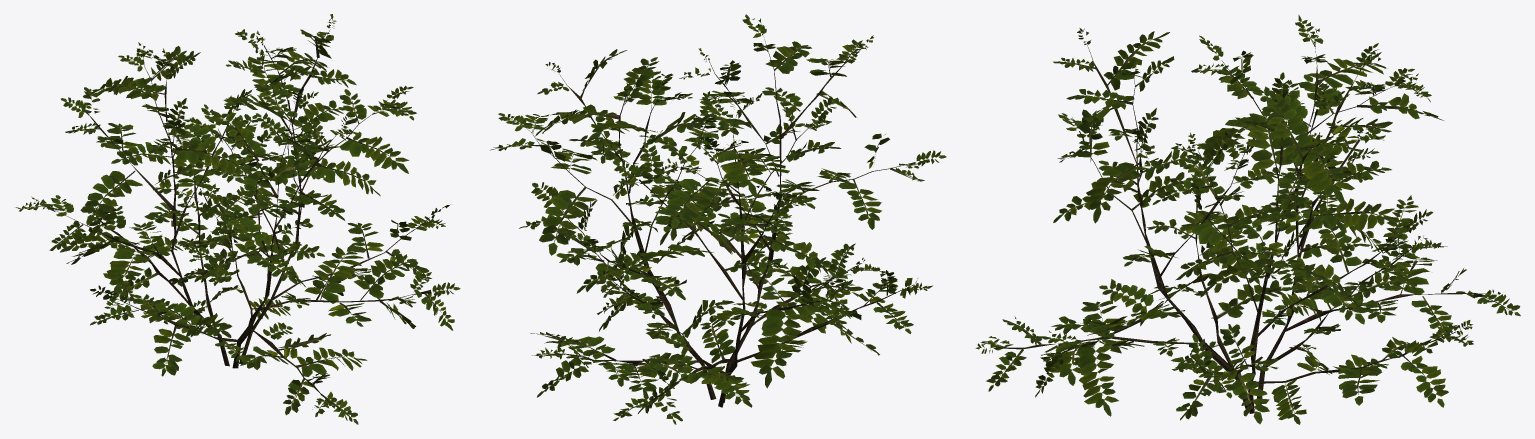
3 renders of one model, left to right at view 1: azimuth 30°, elevation 25°; view 2: azimuth 150°, elevation 25°; view 3: azimuth 270°, elevation 25°, orthographic. The views are drawn at different scales.
Parts seen in each view (by area): view 1: _f8bq_VarA_LOD1_001; view 2: _f8bq_VarA_LOD1_001; view 3: _f8bq_VarA_LOD1_001.
Part boxes in pixels (left/top/right/bottom): _f8bq_VarA_LOD1_001: left=15, top=14, right=460, bottom=424; _f8bq_VarA_LOD1_001: left=490, top=14, right=946, bottom=424; _f8bq_VarA_LOD1_001: left=975, top=14, right=1520, bottom=424.
Bounding box in the file's own units: 1.36 × 1.53 × 1.12.
1 material, 1 textured.
